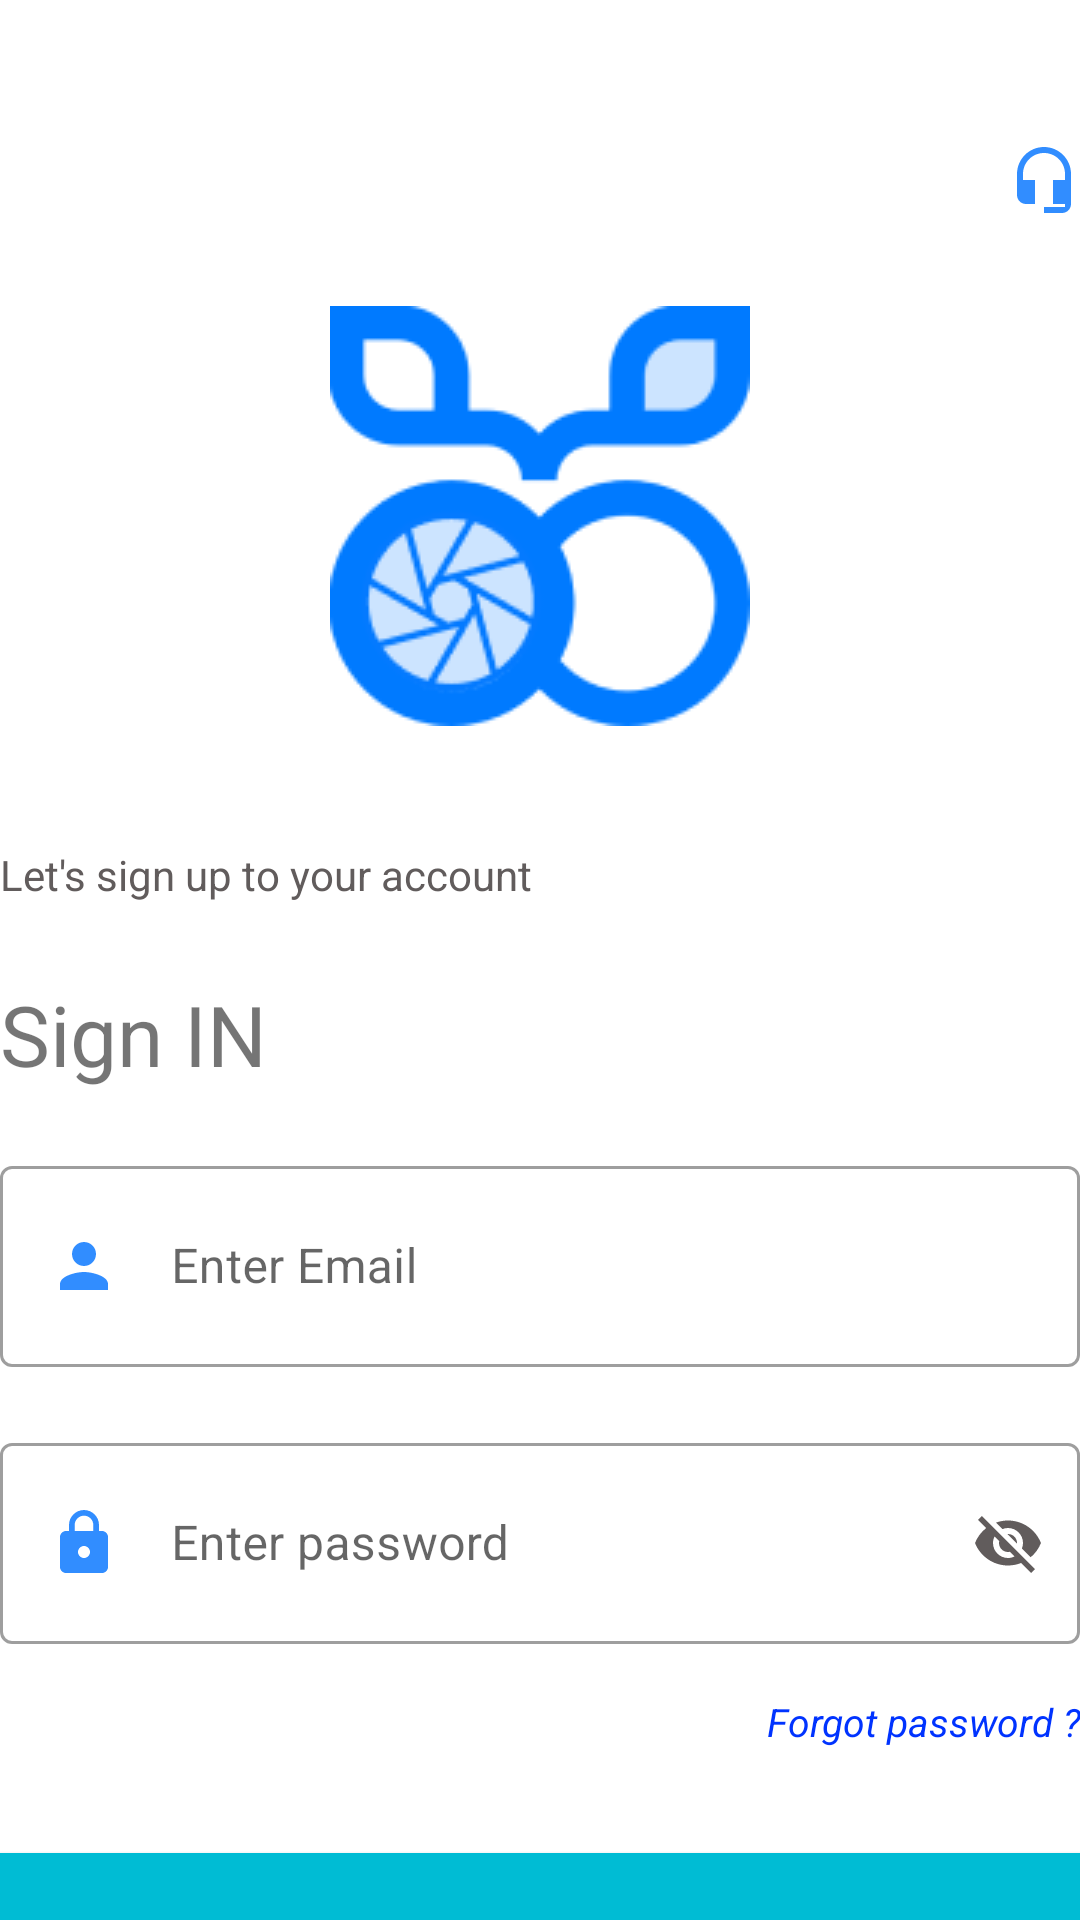

Where icons sit on this 1080 × 1920 app screen, as (x1=x1, y1=y1, x2=x2, y2=y2):
headset mic: (x1=1017, y1=147, x2=1071, y2=213)
